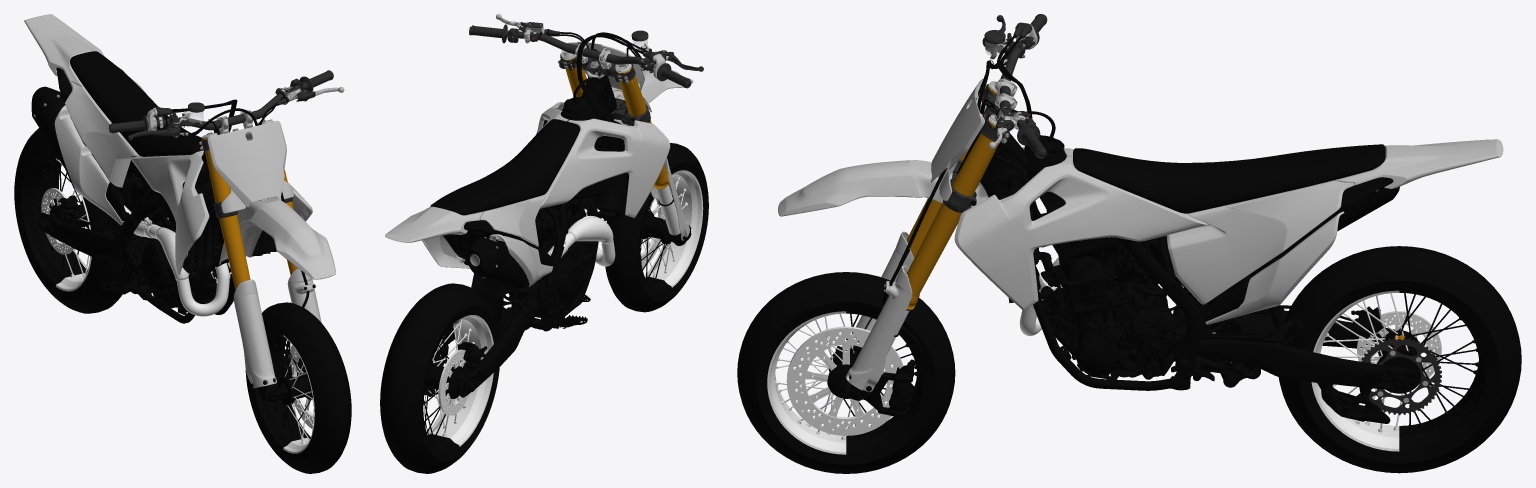
File: supermoto-700.glb
3 renders of one model, left to right at view 1: azimuth 30°, elevation 25°; view 2: azimuth 150°, elevation 25°; view 3: azimuth 270°, elevation 25°, orthographic. The views are drawn at different scales.
Visible parts, largest first — view 1: body, steerhead_handlebar, wheel_F, wheel_R, brake_fork_leg_FL, swingarm, exmanifold277.001, muffler277.001, grip_R; view 2: body, wheel_R, wheel_F, steerhead_handlebar, swingarm, muffler277.001, exmanifold277.001, brake_fork_leg_FL, grip_R, grip_L; view 3: body, wheel_R, wheel_F, steerhead_handlebar, swingarm, brake_fork_leg_FL, rear_sprocket, muffler277.001.
Part boxes in pixels (bbox=[...]): body: bbox=[24, 14, 312, 323]; steerhead_handlebar: bbox=[109, 71, 335, 289]; wheel_F: bbox=[245, 302, 351, 473]; wheel_R: bbox=[14, 128, 126, 313]; brake_fork_leg_FL: bbox=[233, 268, 321, 401]; swingarm: bbox=[38, 195, 166, 297]; exmanifold277.001: bbox=[124, 205, 231, 316]; muffler277.001: bbox=[31, 86, 69, 175]; grip_R: bbox=[111, 115, 148, 133]; body: bbox=[385, 76, 670, 333]; wheel_R: bbox=[380, 283, 499, 473]; wheel_F: bbox=[605, 143, 708, 312]; steerhead_handlebar: bbox=[469, 22, 693, 188]; swingarm: bbox=[424, 278, 565, 397]; muffler277.001: bbox=[467, 235, 528, 289]; exmanifold277.001: bbox=[539, 209, 615, 279]; brake_fork_leg_FL: bbox=[606, 158, 691, 245]; grip_R: bbox=[657, 63, 690, 87]; grip_L: bbox=[470, 24, 507, 43]; body: bbox=[954, 111, 1503, 390]; wheel_R: bbox=[1278, 246, 1521, 473]; wheel_F: bbox=[737, 272, 955, 473]; steerhead_handlebar: bbox=[778, 14, 1047, 310]; swingarm: bbox=[1164, 305, 1417, 423]; brake_fork_leg_FL: bbox=[835, 231, 921, 417]; rear_sprocket: bbox=[1361, 337, 1441, 415]; muffler277.001: bbox=[1337, 187, 1399, 231].
Size of the model in its own units: 0.8436 by 1.19 by 2.05.
Materials: 16 (2 with a texture image).
